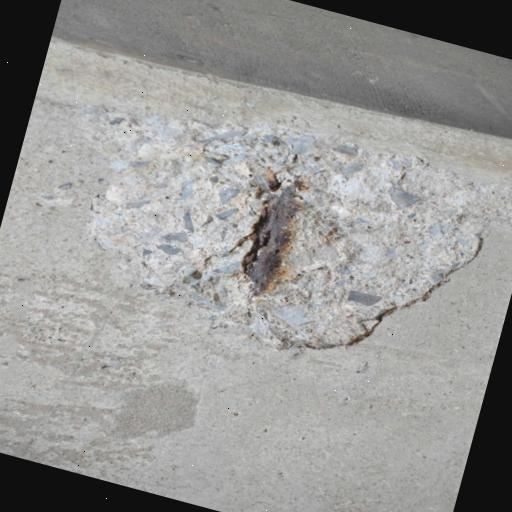spalling: (83, 112, 483, 349)
